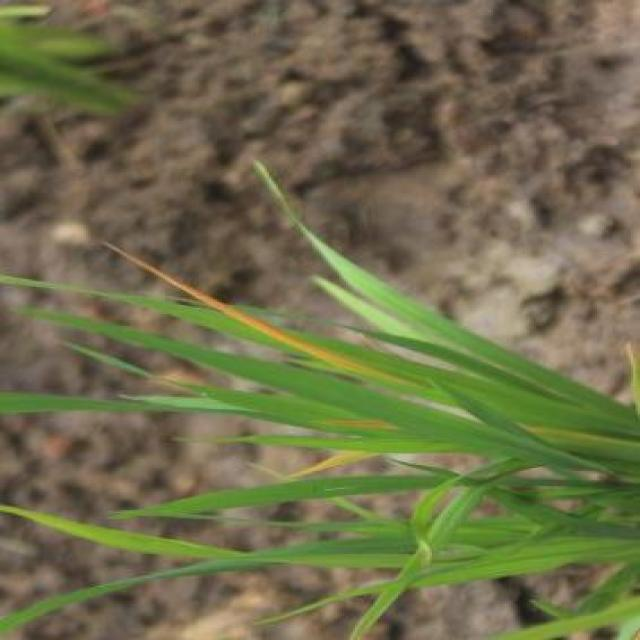Tungro: (98, 230, 380, 380)
